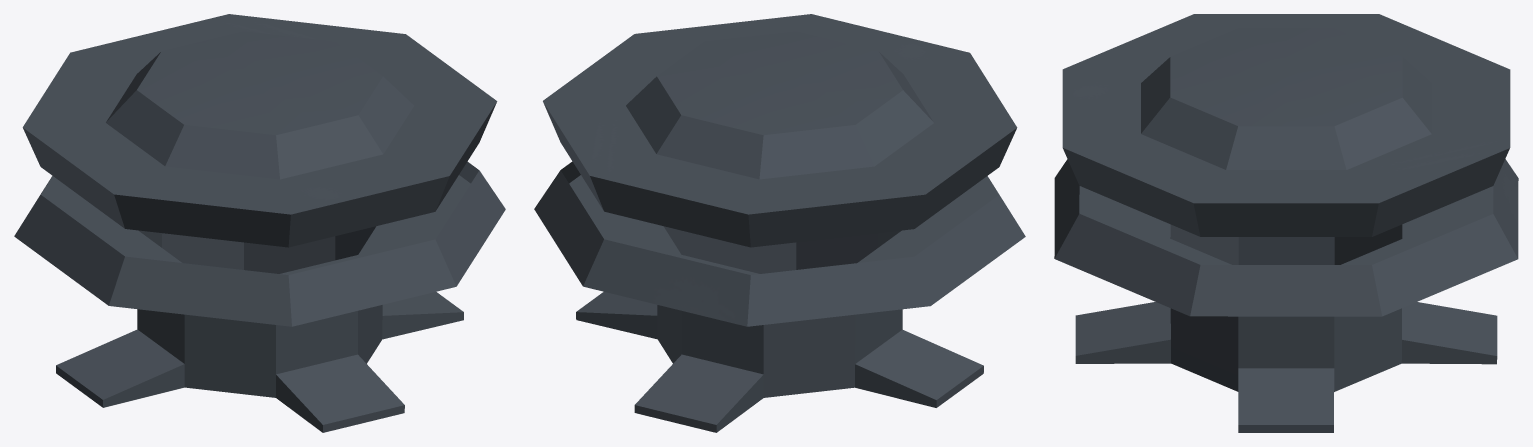
Rendered from Trap_2_1.fbx.
3 renders of one model, left to right at view 1: azimuth 30°, elevation 25°; view 2: azimuth 150°, elevation 25°; view 3: azimuth 270°, elevation 25°, orthographic.
Visible parts, largest first — view 1: Trap2_2; view 2: Trap2_2; view 3: Trap2_2.
Part boxes in pixels (left/top/right/bottom): Trap2_2: left=14, top=14, right=505, bottom=432; Trap2_2: left=534, top=14, right=1025, bottom=432; Trap2_2: left=1054, top=14, right=1518, bottom=432.
Bounding box in the file's own units: 0.0116 × 0.00748 × 0.0116.
Materials: 1 (1 with a texture image).
